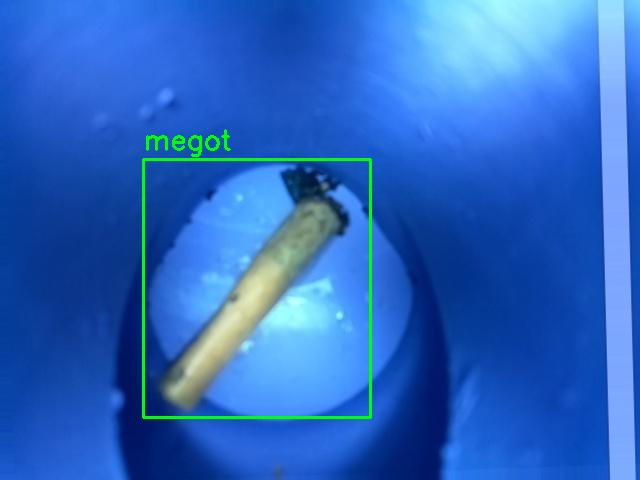megot: (143, 159, 370, 417)
